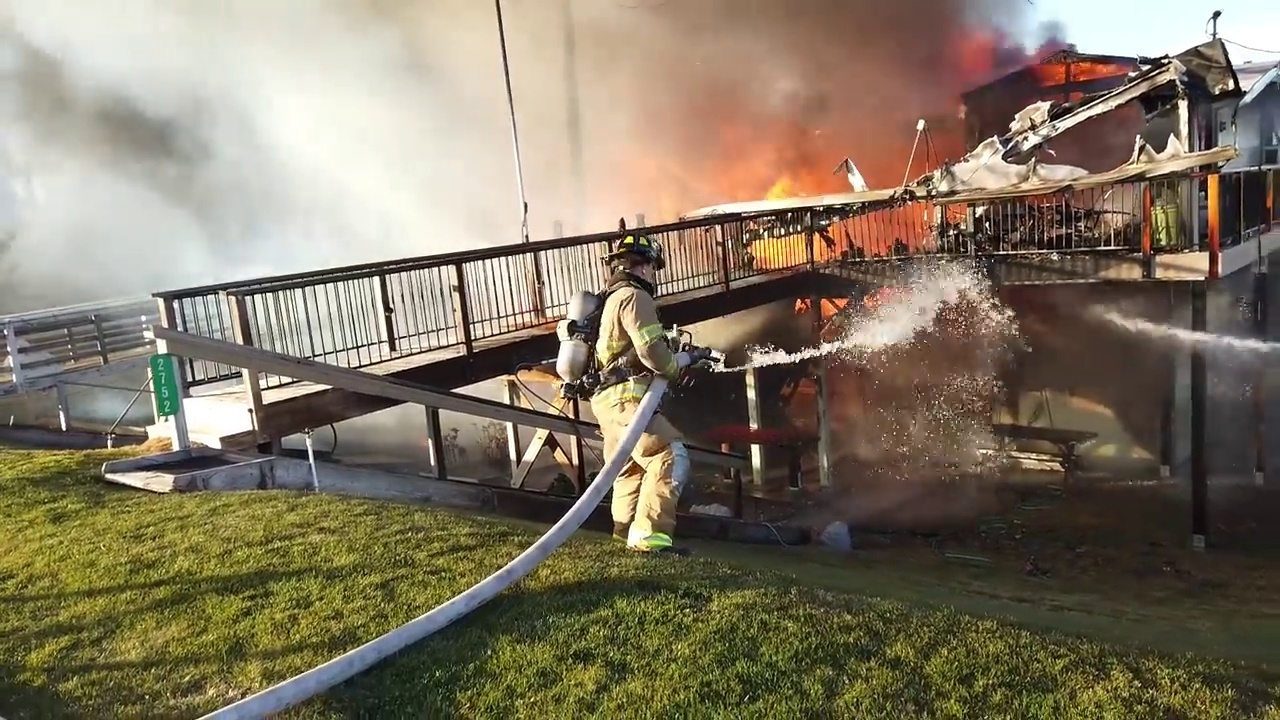fire: (617, 142, 1044, 282), (1041, 52, 1113, 81)
smoke: (2, 8, 616, 237), (645, 1, 1048, 137), (1034, 339, 1186, 483), (358, 241, 554, 346), (1041, 101, 1168, 170), (443, 413, 507, 476), (340, 420, 423, 468)
